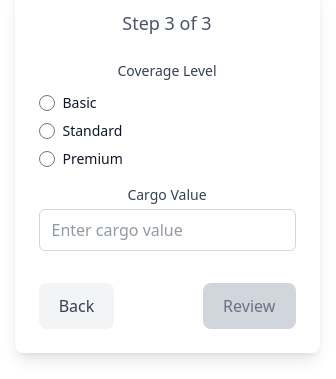
Test case: Feature: Maritime Insurance Quote Request Wizard Step 3 Component › Scenario: Cargo value validation › should enable Review button for valid positive number
The width and height of the screenshot is (336, 379).
Type "1000000" into the field with test id "cargo-value".
click(167, 230); type("1000000")  # box [38,209,296,251]
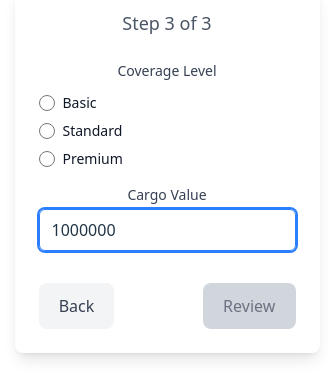
Click the radio button with test id "coverage-basic".
click(46, 103)  # box [38,95,54,111]
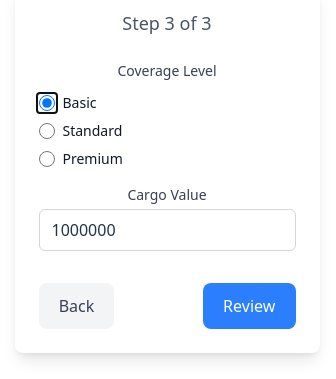
Now the button with test id "review-button" is enabled, box [203,283,296,329]
